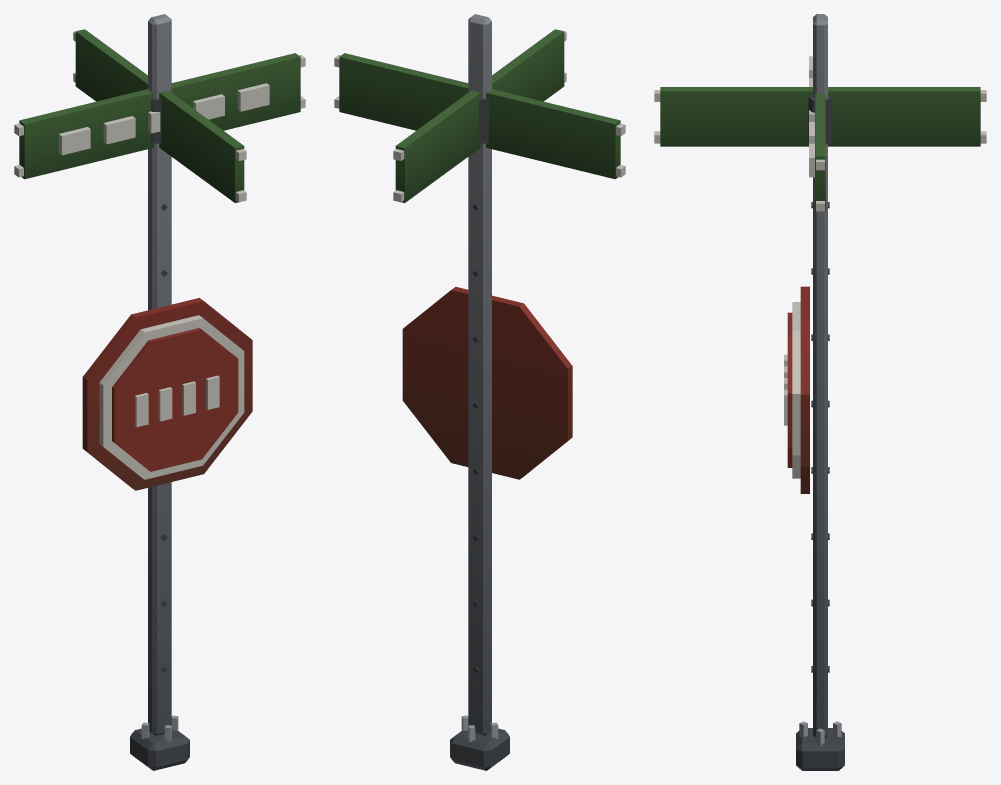
File: street_stop_sign.glb
3 views of the same model, side by side, from view 1: azimuth 30°, elevation 25°; view 2: azimuth 150°, elevation 25°; view 3: azimuth 270°, elevation 25° (orthographic).
Visible parts, largest first — view 1: street_stop_sign; view 2: street_stop_sign; view 3: street_stop_sign.
Boxes of the visible parts, <box> form: street_stop_sign: <box>14,14,305,770</box>; street_stop_sign: <box>334,14,625,770</box>; street_stop_sign: <box>654,14,986,770</box>.
Bounding box in the file's own units: 1.09 × 2.7 × 1.09.
